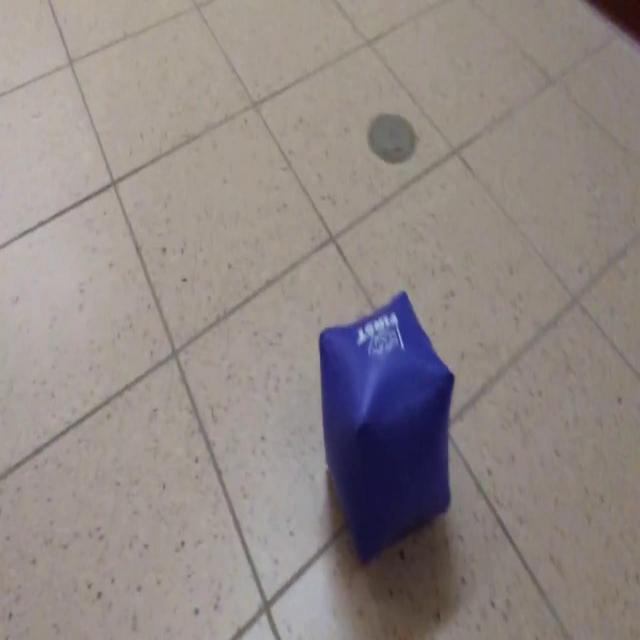frc_cube: (318, 289, 456, 568)
